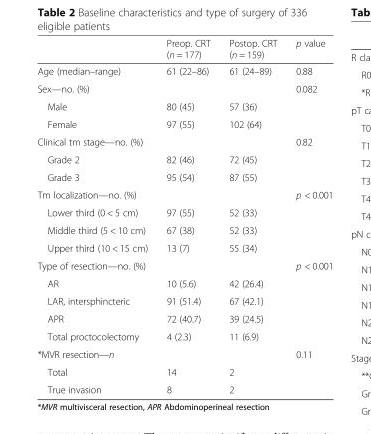table: (36, 37, 332, 394)
table column: (36, 37, 156, 394), (218, 37, 285, 394), (156, 37, 218, 394), (285, 37, 332, 394)
table column header: (36, 37, 332, 62)
table row: (36, 37, 332, 62), (36, 79, 332, 97), (36, 114, 332, 132), (36, 132, 332, 150), (36, 150, 332, 168), (36, 185, 332, 203), (36, 203, 332, 221), (36, 238, 332, 256), (36, 256, 332, 274), (36, 291, 332, 309), (36, 309, 332, 327), (36, 344, 332, 362), (36, 362, 332, 380), (36, 62, 332, 79), (36, 97, 332, 114), (36, 168, 332, 185), (36, 221, 332, 238), (36, 274, 332, 291), (36, 327, 332, 344), (36, 380, 332, 394)
table spanning cell: (36, 79, 285, 97), (36, 132, 285, 150), (36, 185, 285, 203), (36, 256, 285, 274), (36, 344, 285, 362), (285, 256, 332, 344), (285, 185, 332, 256), (285, 79, 332, 132), (285, 132, 332, 185), (285, 344, 332, 394)
